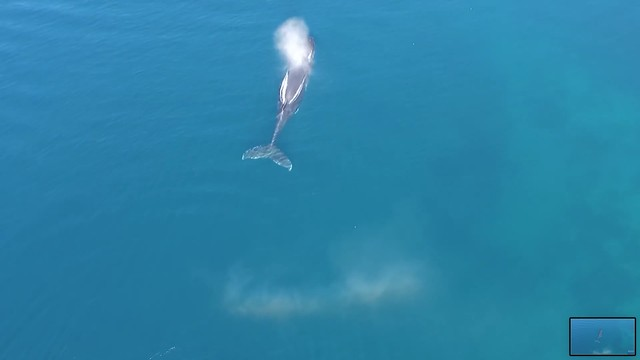whale: (235, 25, 327, 178)
